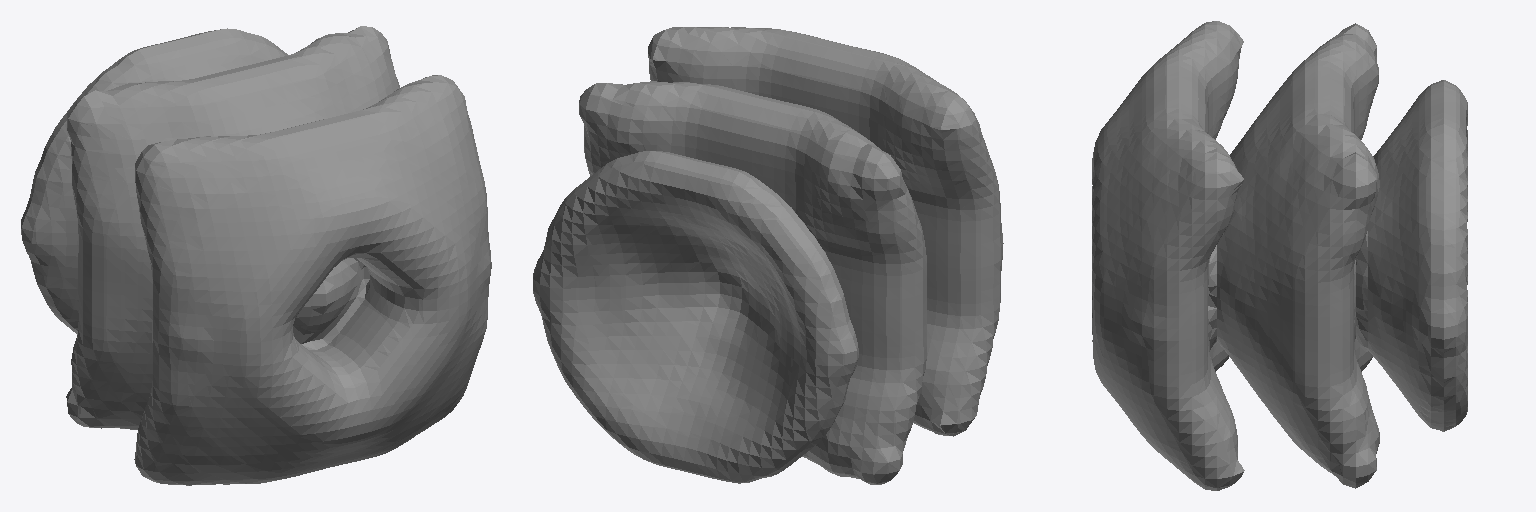
URDF robot description (cube.urdf):
<?xml version="0.0" ?> 
<robot name="cube.urdf"> 
<link name="legobrick"> 
<contact> 
<lateral_friction value="5.0"/> 
<rolling_friction value="0.0"/> 
<contact_cfm value="0.0"/> 
<contact_erp value="1.0"/> 
</contact> 
<inertial> 
<origin rpy="0 0 0" xyz="0.0 0.0 0.0"/> 
<mass value=".01"/> 
<inertia ixx="1" ixy="0" ixz="0" iyy="1" iyz="0" izz="1"/> 
</inertial> 
<visual> 
<origin rpy="1.570796 0 0" xyz="-0.026075644782318313 0.025756534872722375 -0.02607403241548767"/> 
<geometry> 
<mesh filename="N09_0.obj" scale="0.0006960292374200563 0.0006960292374200563 0.0006960292374200563"/> 
</geometry> 
<material name="yellow"> 
<color rgba="0.6 0.6 0.6 1"/> 
</material> 
</visual> 
<collision> 
<origin rpy="1.570796 0 0" xyz="-0.026075644782318313 0.025756534872722375 -0.02607403241548767"/> 
<geometry> 
<mesh filename="N09_0.obj" scale="0.0006960292374200563 0.0006960292374200563 0.0006960292374200563"/> 
</geometry> 
</collision> 
</link> 
</robot>

--- Facts derived from the render (not from the file) ---
The picture shows the robot from 3 angles, left to right: view 1: azimuth 30°, elevation 25°; view 2: azimuth 150°, elevation 25°; view 3: azimuth 270°, elevation 25°; orthographic projection.
Robot: cube.urdf — 1 links, 0 joints (none); root link legobrick; default pose: every joint at zero.
Visible links, largest first — view 1: legobrick; view 2: legobrick; view 3: legobrick.
Boxes of the visible links, x1,y1,x2,y2 form: legobrick: (21, 26, 491, 485); legobrick: (533, 27, 1003, 484); legobrick: (1092, 21, 1467, 490).
Bounding box of the posed robot: 0.056 × 0.0561 × 0.0557 m (x, y, z).
1 mesh visuals loaded from 1 distinct referenced files (1 OBJ).
